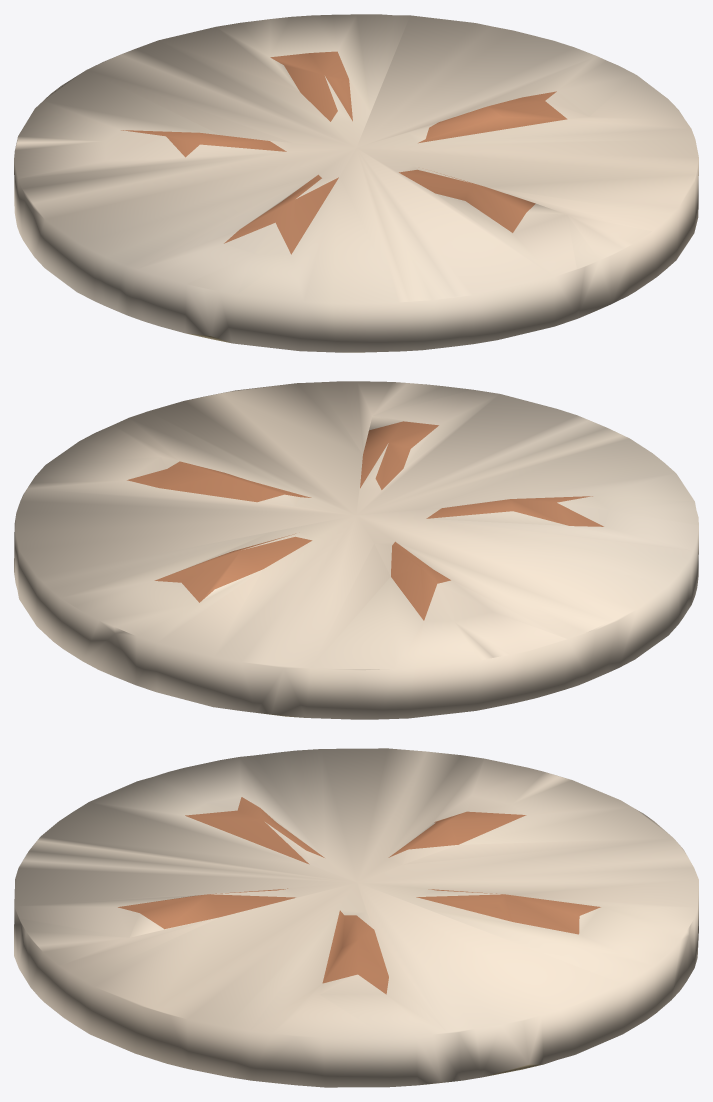
File: shore_sand_dollar_lod2.glb
3 views of the same model, one above another, from view 1: azimuth 30°, elevation 25°; view 2: azimuth 150°, elevation 25°; view 3: azimuth 270°, elevation 25° (orthographic).
Visible parts, largest first — view 1: shore_sand_dollar.001; view 2: shore_sand_dollar.001; view 3: shore_sand_dollar.001.
Part boxes in pixels (bbox=[...]): shore_sand_dollar.001: bbox=[14, 14, 698, 352]; shore_sand_dollar.001: bbox=[14, 381, 698, 719]; shore_sand_dollar.001: bbox=[14, 748, 698, 1087].
Size of the model in its own units: 7.37 by 0.8239 by 7.36.
